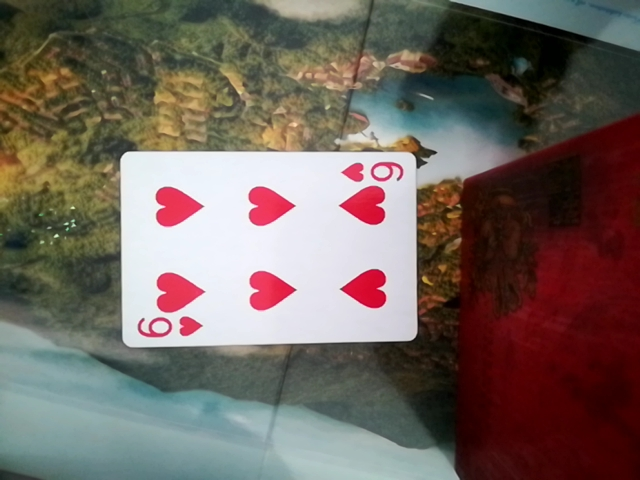hx 6: (114, 149, 423, 350)
